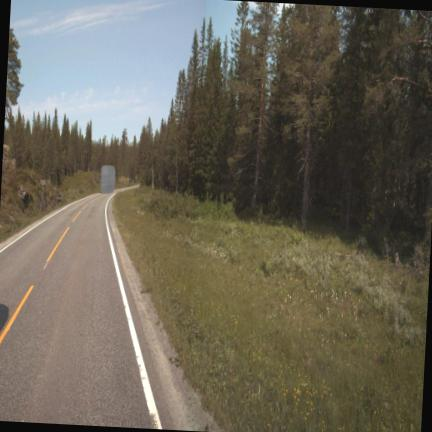Road: (0, 194, 172, 428)
